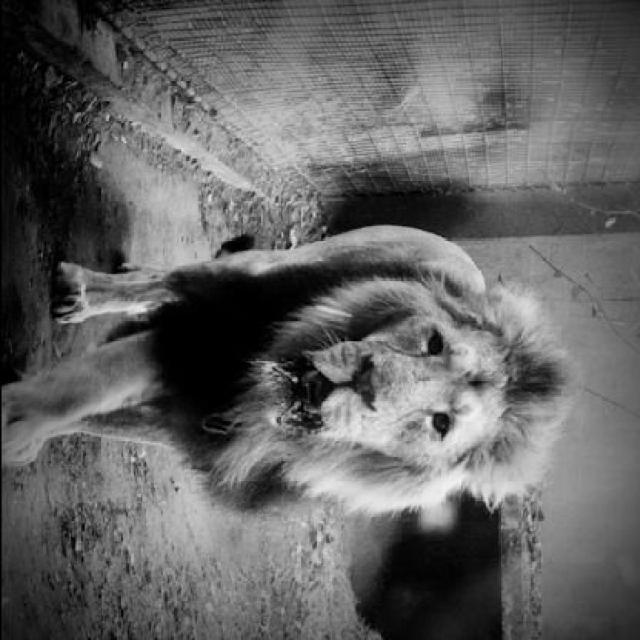Lion: (2, 166, 564, 545)
